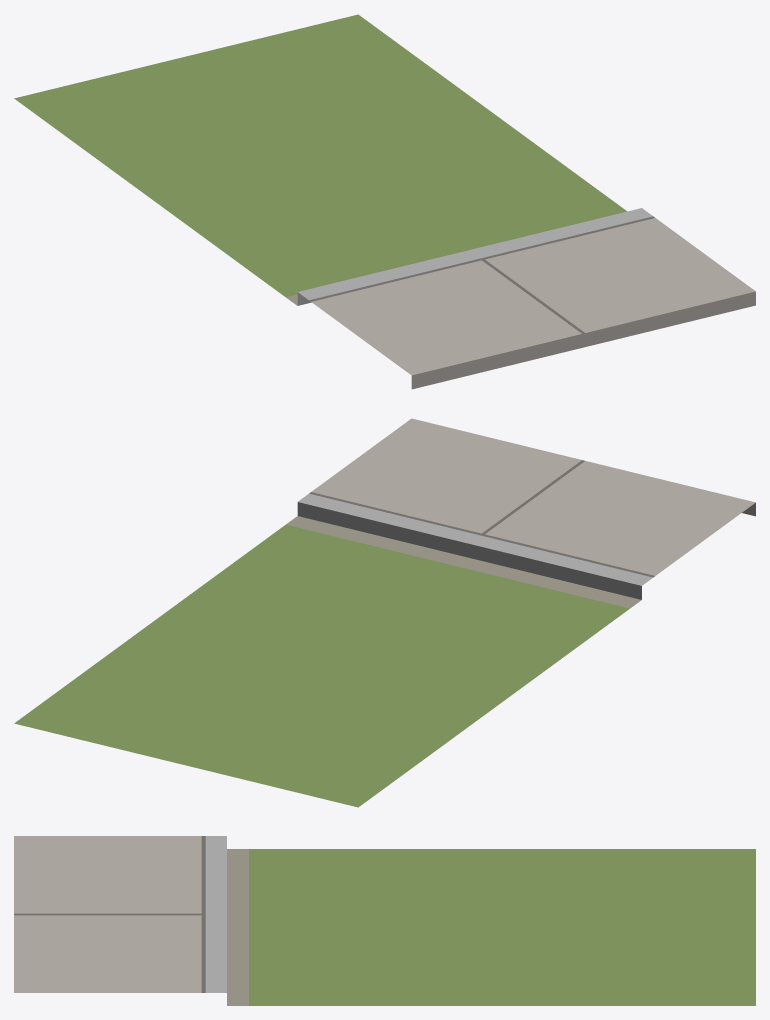
Rendered from SA_Env_Road_Straight_clear_dirt.fbx.
3 views of the same model, one above another, from view 1: azimuth 30°, elevation 25°; view 2: azimuth 150°, elevation 25°; view 3: azimuth 270°, elevation 25° (orthographic). The views are drawn at different scales.
Parts seen in each view (by area): view 1: SA_Env_Road_Straight_clear_01; view 2: SA_Env_Road_Straight_clear_01; view 3: SA_Env_Road_Straight_clear_01.
Part boxes in pixels (box(x1,y1,x2,y2)): SA_Env_Road_Straight_clear_01: box(14, 14, 755, 389); SA_Env_Road_Straight_clear_01: box(14, 418, 755, 807); SA_Env_Road_Straight_clear_01: box(14, 836, 755, 1005).
Bounding box in the file's own units: 5 × 0.1948 × 10.
1 material, 1 textured.
